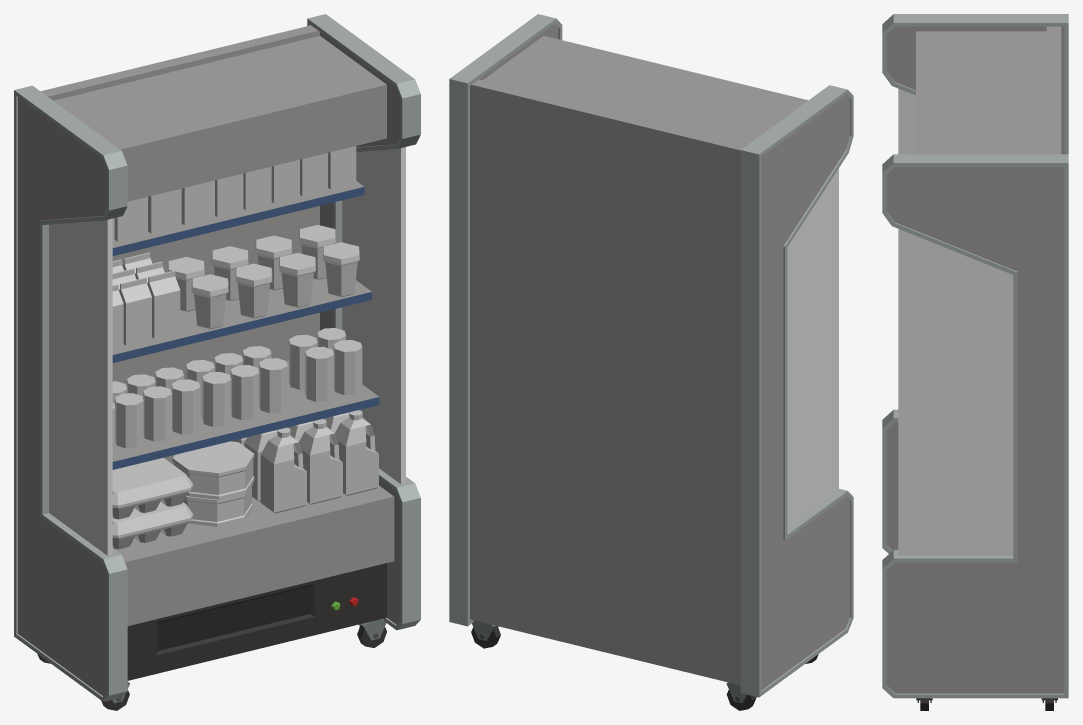
Rendered from SM_Props_Interior_SuperMarket_Display_Small_Preset_02.fbx.
3 renders of one model, left to right at view 1: azimuth 30°, elevation 25°; view 2: azimuth 150°, elevation 25°; view 3: azimuth 270°, elevation 25°, orthographic. The views are drawn at different scales.
Parts seen in each view (by area): view 1: SM_Props_Interior_SuperMarket_Display_Small_Preset_02, SM_Props_Interior_SuperMarket_Display_Small_Preset_02_Produc; view 2: SM_Props_Interior_SuperMarket_Display_Small_Preset_02; view 3: SM_Props_Interior_SuperMarket_Display_Small_Preset_02.
Part boxes in pixels (x1,y1,x2,y2): SM_Props_Interior_SuperMarket_Display_Small_Preset_02: [14, 14, 420, 710]; SM_Props_Interior_SuperMarket_Display_Small_Preset_02_Produc: [112, 146, 378, 549]; SM_Props_Interior_SuperMarket_Display_Small_Preset_02: [449, 14, 853, 710]; SM_Props_Interior_SuperMarket_Display_Small_Preset_02: [882, 14, 1068, 710].
Bounding box in the file's own units: 121 × 213 × 64.
